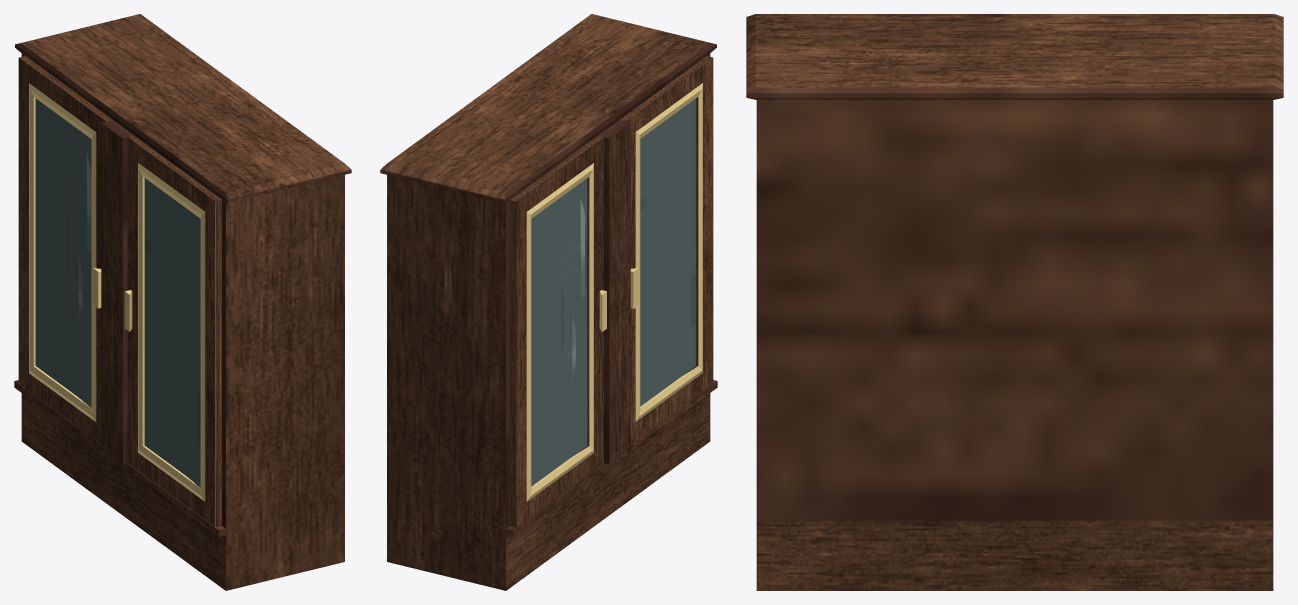
Rendered from fbx_Armario_2.fbx.
3 views of the same model, side by side, from view 1: azimuth 30°, elevation 25°; view 2: azimuth 150°, elevation 25°; view 3: azimuth 270°, elevation 25° (orthographic). The views are drawn at different scales.
Parts seen in each view (by area): view 1: pCube13, pCube9, pCube19, pCube20, pCube8; view 2: pCube13, pCube8, pCube19, pCube20, pCube9; view 3: pCube13.
Boxes of the visible parts, bbox=[...] form: pCube13: bbox=[14, 14, 351, 590]; pCube9: bbox=[127, 135, 221, 527]; pCube19: bbox=[144, 178, 200, 486]; pCube20: bbox=[35, 98, 91, 406]; pCube8: bbox=[18, 56, 112, 443]; pCube13: bbox=[380, 14, 717, 590]; pCube8: bbox=[509, 136, 603, 527]; pCube19: bbox=[640, 98, 696, 406]; pCube20: bbox=[531, 178, 587, 486]; pCube9: bbox=[619, 56, 713, 443]; pCube13: bbox=[746, 14, 1283, 590].
Size of the model in its own units: 0.4845 by 1.38 by 1.33.
Materials: 2 (2 with a texture image).
